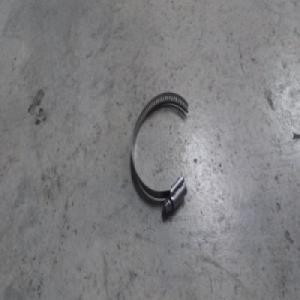AdjustableClamp: (131, 89, 194, 209)
